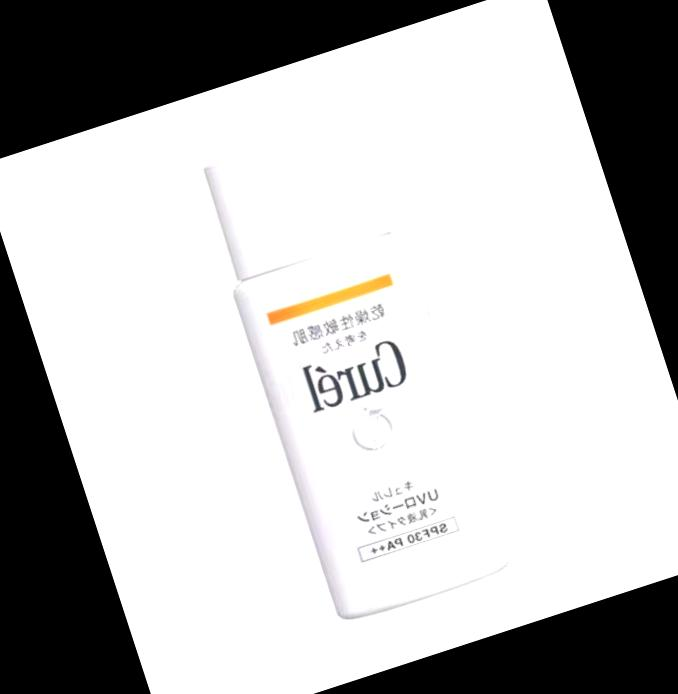cosmetic: (191, 109, 512, 620)
